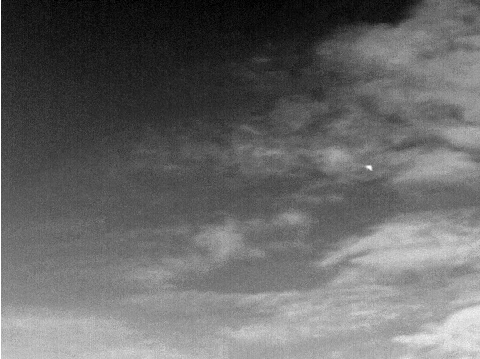dim target: (364, 162, 373, 172)
